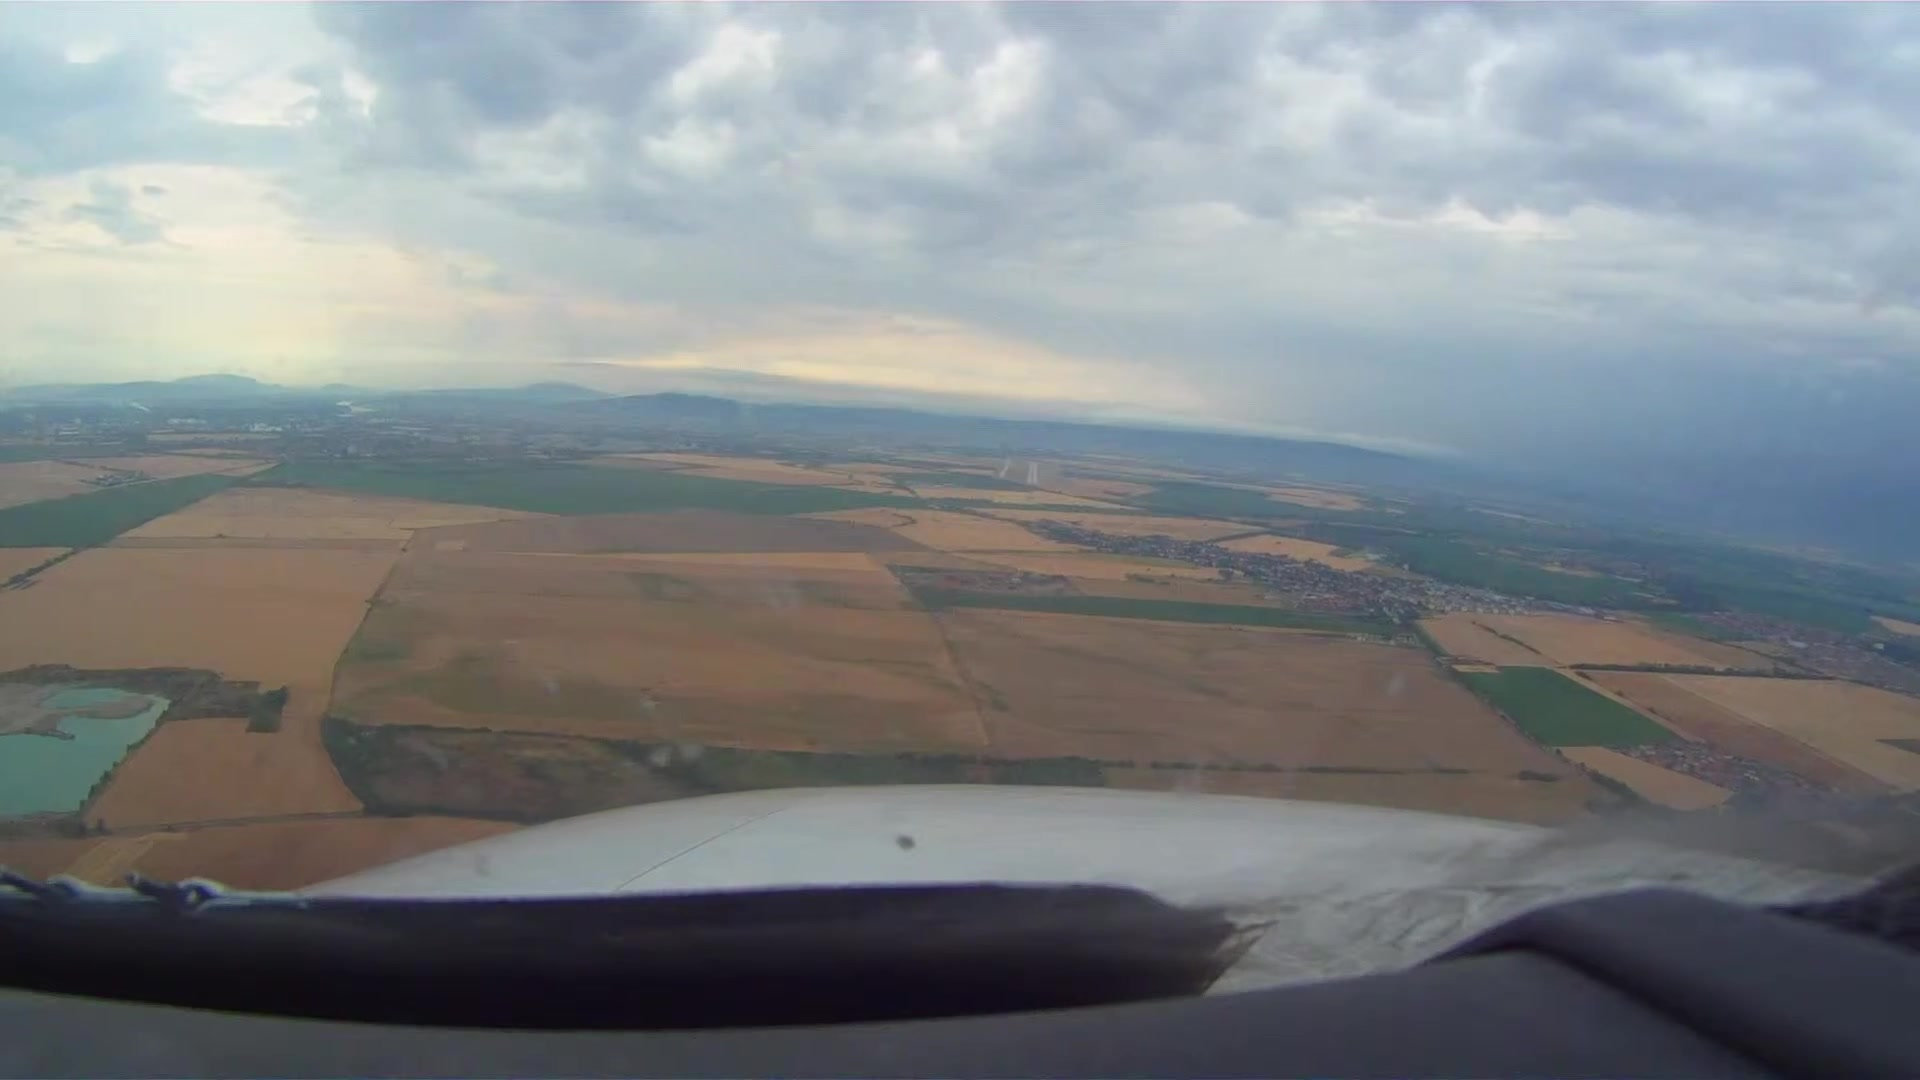runway: (1025, 460, 1040, 487)
